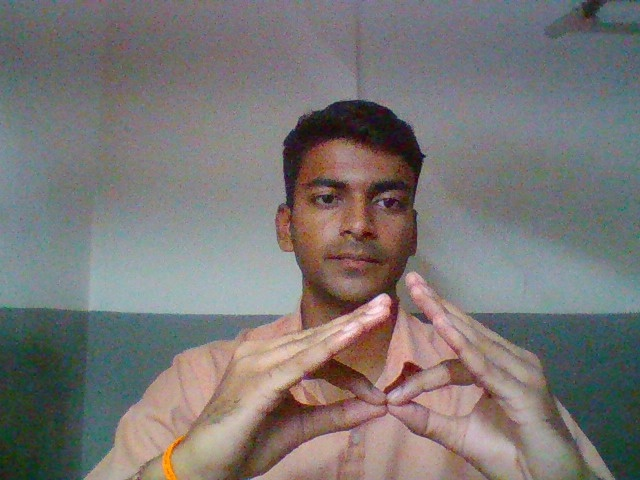B: (183, 260, 593, 480)
